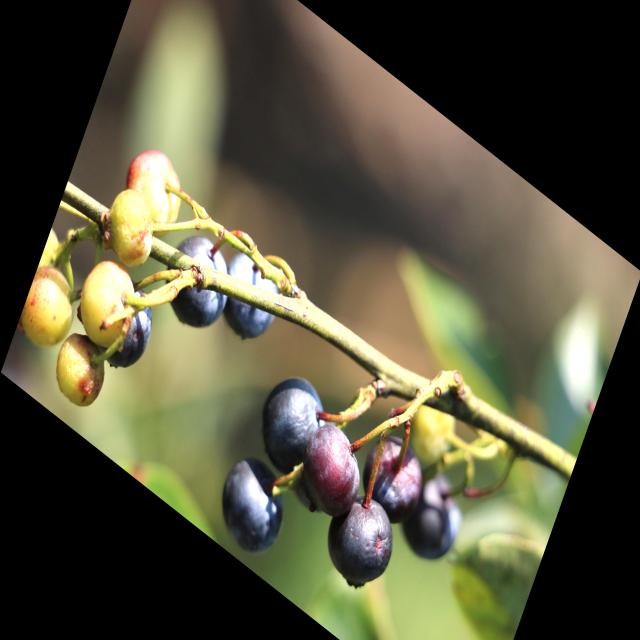blueberry: (286, 405, 381, 543), (246, 353, 338, 495), (314, 471, 408, 609), (206, 436, 300, 574), (152, 215, 244, 350), (346, 414, 435, 546), (390, 453, 474, 583), (82, 261, 166, 390), (208, 235, 291, 361)
blueberry-unripe: (66, 243, 143, 365), (16, 254, 87, 364), (119, 134, 192, 237), (99, 180, 165, 276), (49, 320, 113, 417)
